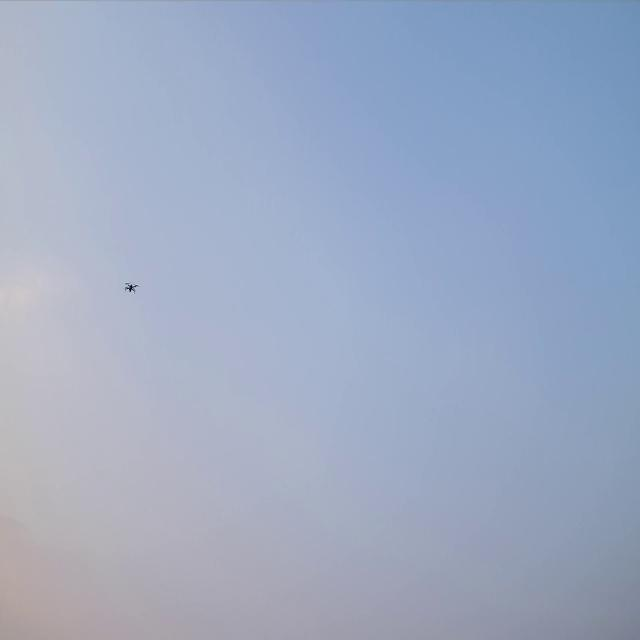UAV: (123, 279, 138, 295)
